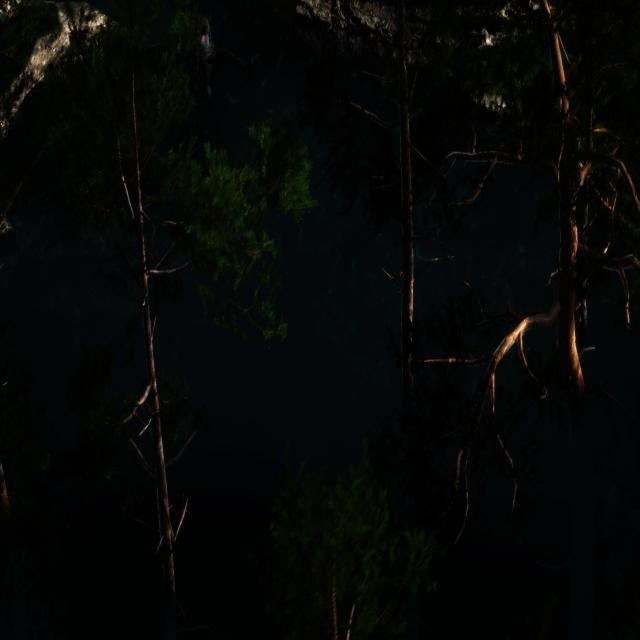Human: (191, 11, 259, 112)
